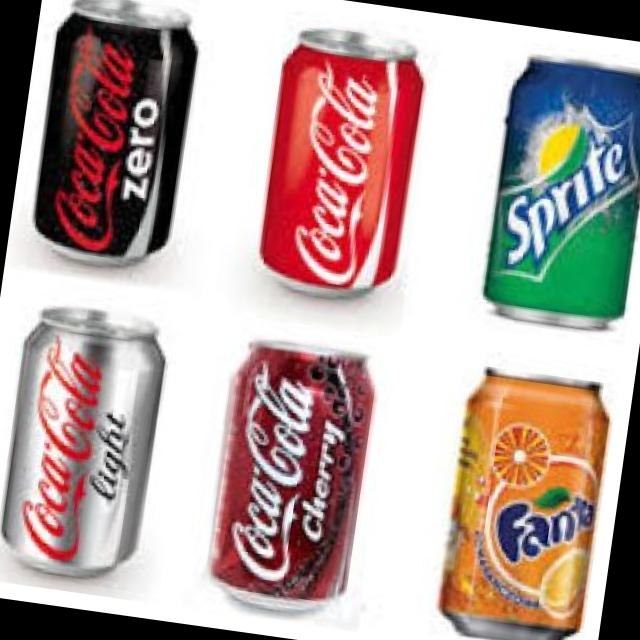soda_can: (191, 327, 398, 634), (248, 17, 443, 313), (427, 354, 618, 640), (22, 0, 213, 284), (0, 306, 180, 586), (477, 42, 640, 351)
